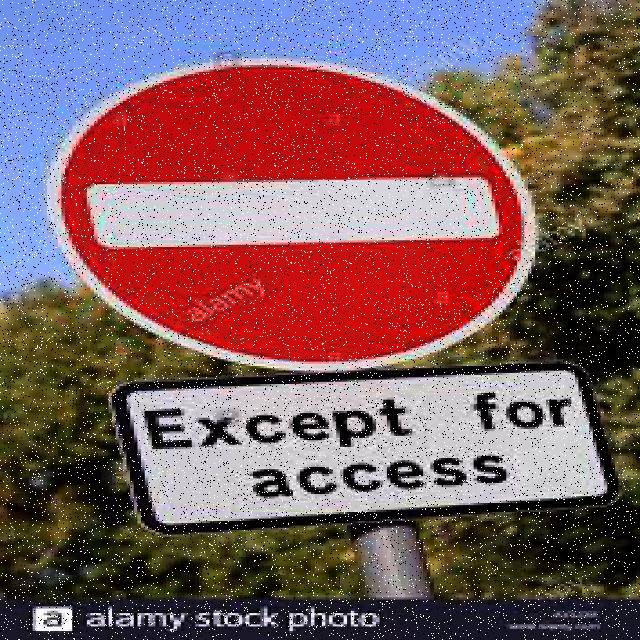no entry: (62, 65, 520, 359)
